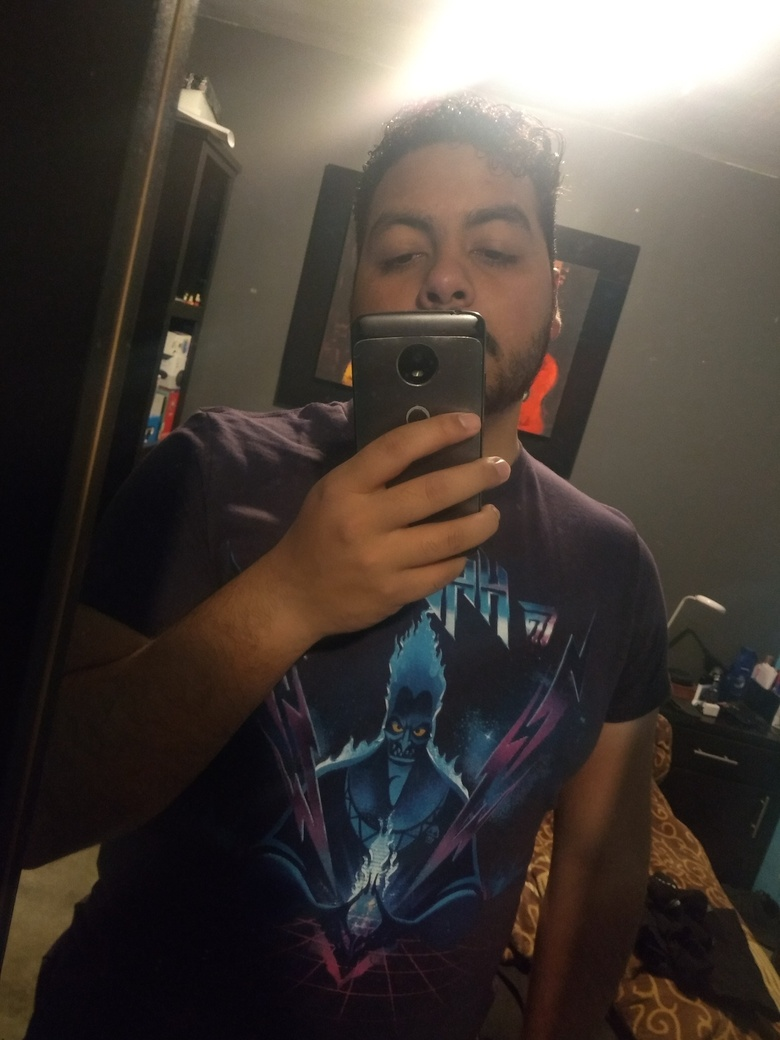Yoshi: (317, 77, 619, 442)
